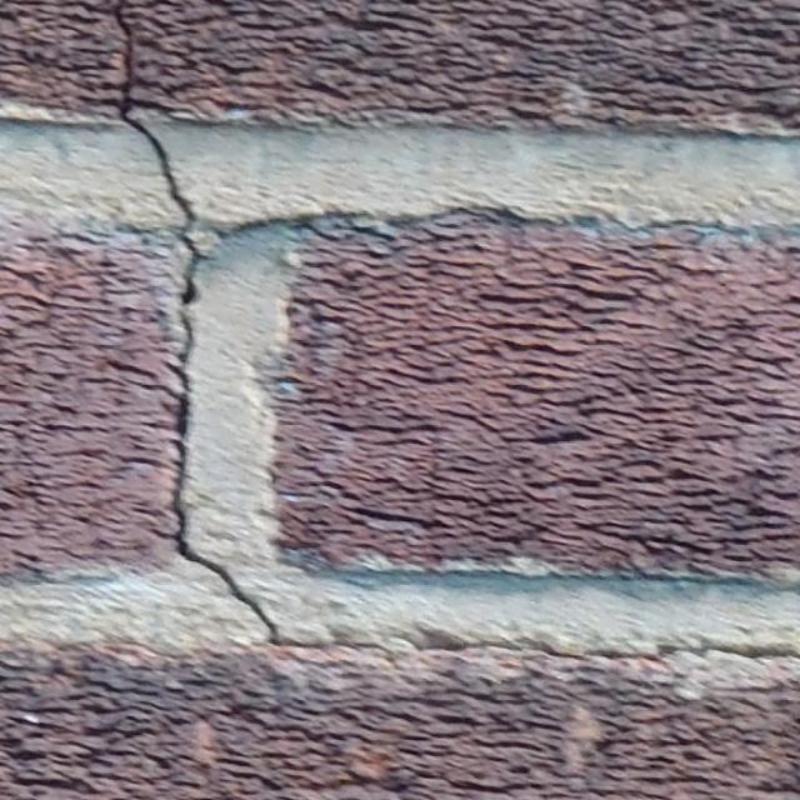crack: (114, 1, 277, 642), (276, 638, 799, 661)
